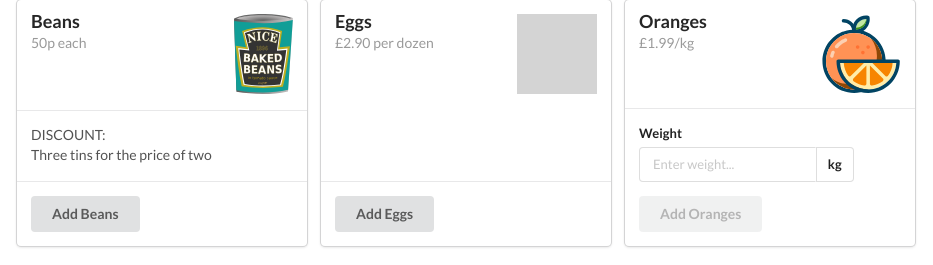
Test case: ignores invalid numbers of oranges
Expected: the button "Add Oranges" is disabled, [639,196,762,232]
Type "33" into the field with placeholder "Enter weight...".
click(728, 165); type("33")  # box [639,147,816,182]
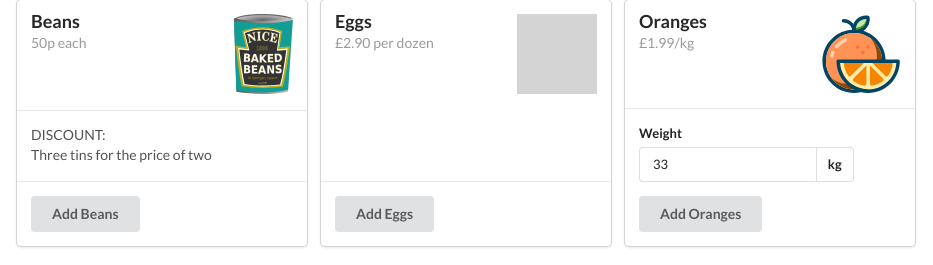
Expected: the button "Add Oranges" is enabled, [639,196,762,232]
Replace the text in the field with placeholder "Enter weight..." with "Not a number" at point(728, 165), box [639,147,816,182]
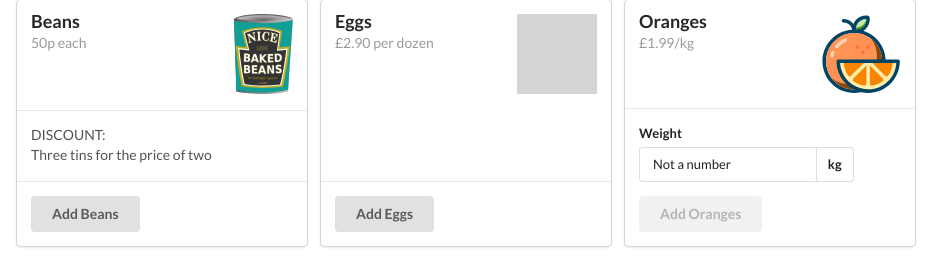
Expected: the button "Add Oranges" is disabled, [639,196,762,232]
